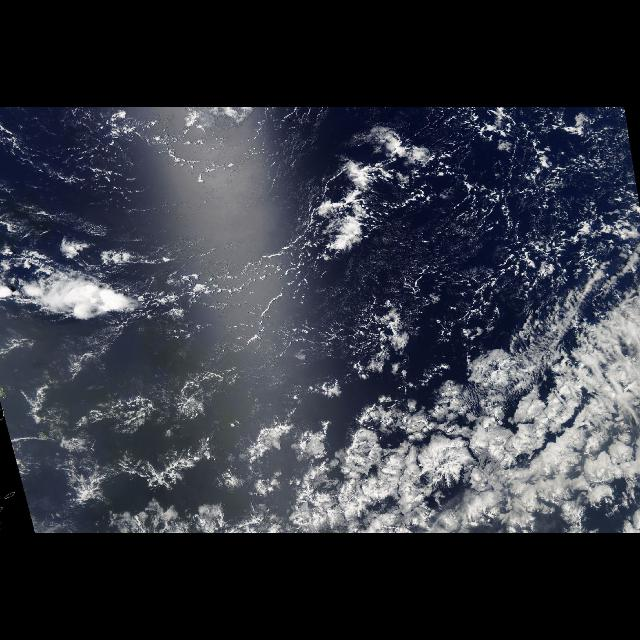Fish: (296, 132, 640, 430), (43, 360, 255, 510)
Flower: (108, 333, 640, 532)
Gravel: (1, 107, 640, 393)
